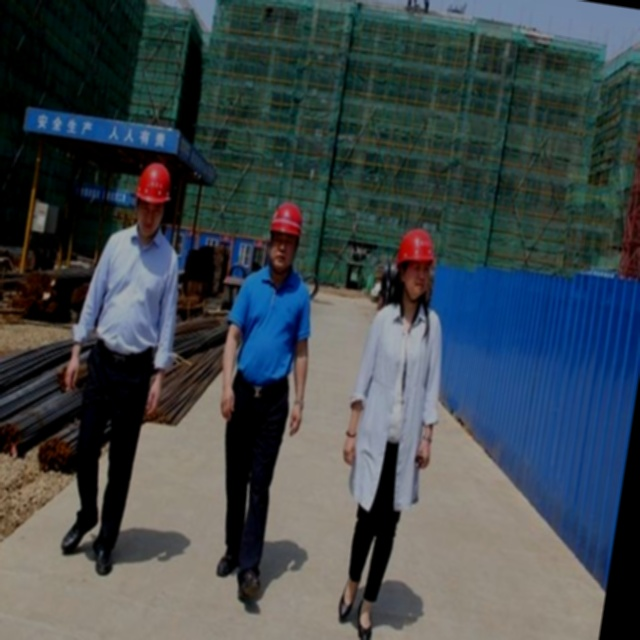Con_Casco: (389, 226, 438, 305), (131, 158, 176, 239), (263, 200, 305, 276)
